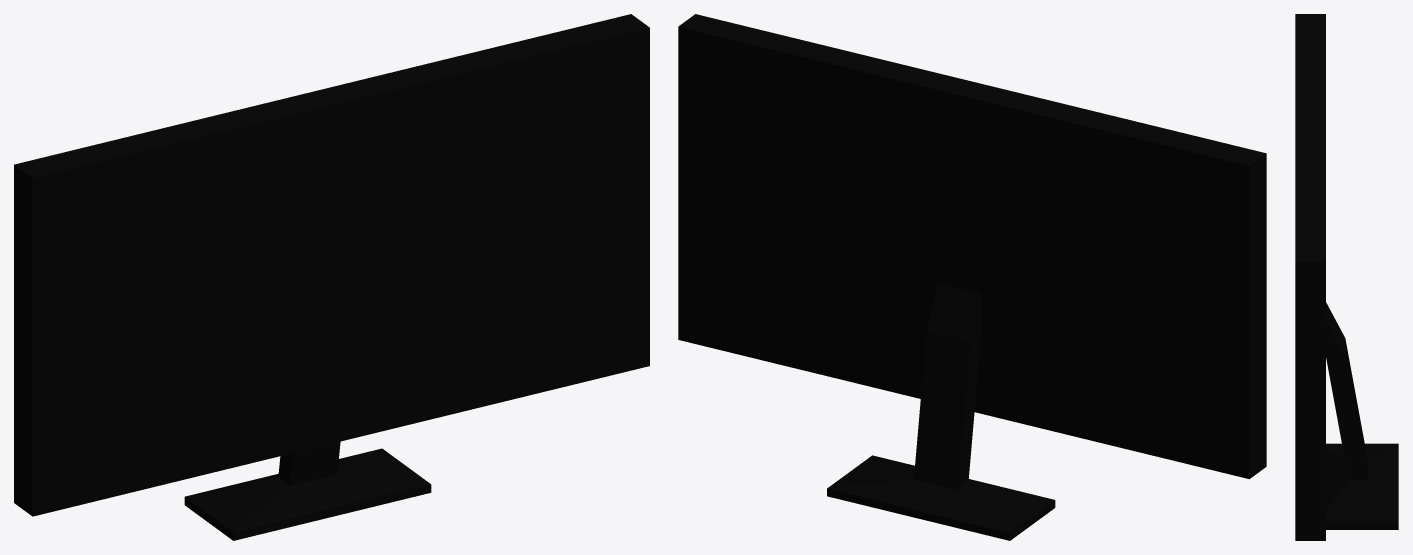
3 renders of one model, left to right at view 1: azimuth 30°, elevation 25°; view 2: azimuth 150°, elevation 25°; view 3: azimuth 270°, elevation 25°, orthographic. The views are drawn at different scales.
Visible parts, largest first — view 1: TV; view 2: TV; view 3: TV.
Boxes of the visible parts, x1,y1,x2,y2 form: TV: (14, 14, 649, 540); TV: (678, 14, 1266, 540); TV: (1295, 14, 1398, 540).
Bounding box in the file's own units: 151 × 99.07 × 26.51.
Materials: 1 (1 with a texture image).
